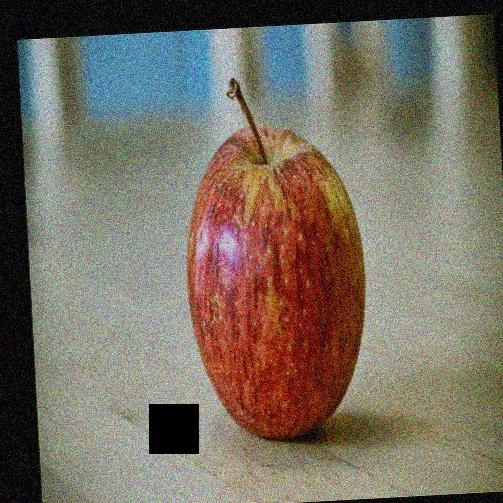red apple: (183, 119, 364, 438)
